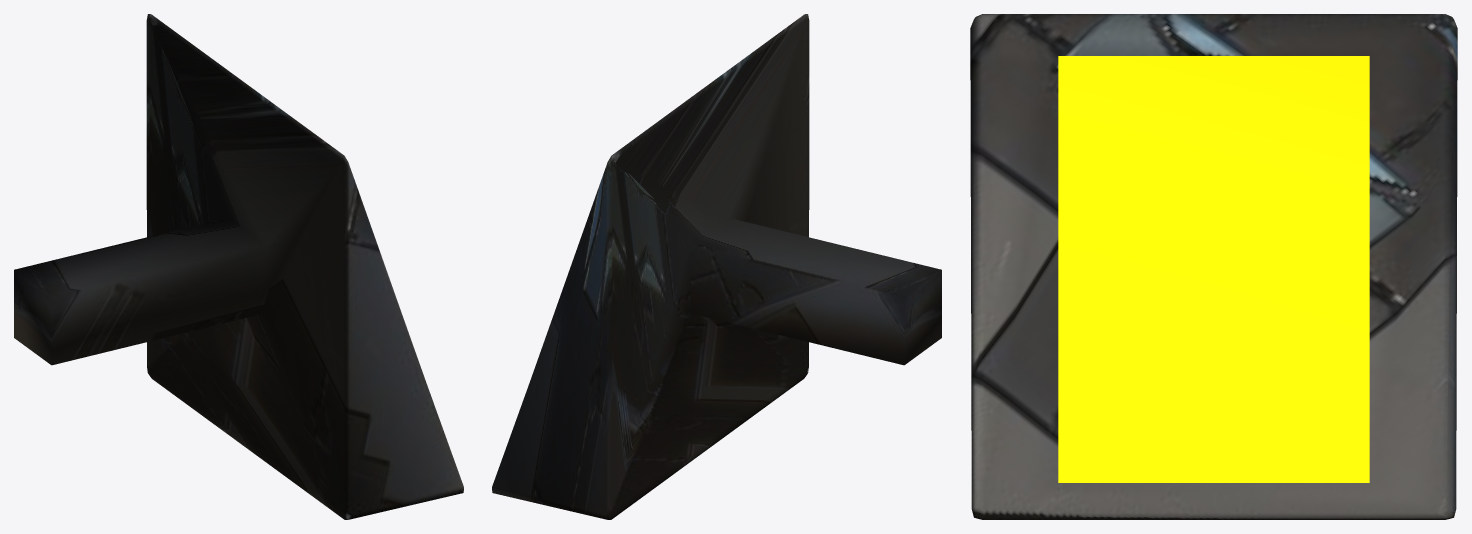
The model's file is floor.03.machine8.gltf.
3 views of the same model, side by side, from view 1: azimuth 30°, elevation 25°; view 2: azimuth 150°, elevation 25°; view 3: azimuth 270°, elevation 25° (orthographic). The views are drawn at different scales.
Visible parts, largest first — view 1: floor.03.machine.10; view 2: floor.03.machine.10; view 3: floor.03.machine.10.
Boxes of the visible parts, <box> form: floor.03.machine.10: <box>14,14,463,519</box>; floor.03.machine.10: <box>492,14,941,519</box>; floor.03.machine.10: <box>970,14,1457,519</box>.
Size of what is drawn, in the model's own units: 5.49 by 5.77 by 5.82.
Materials: 2 (1 with a texture image).
